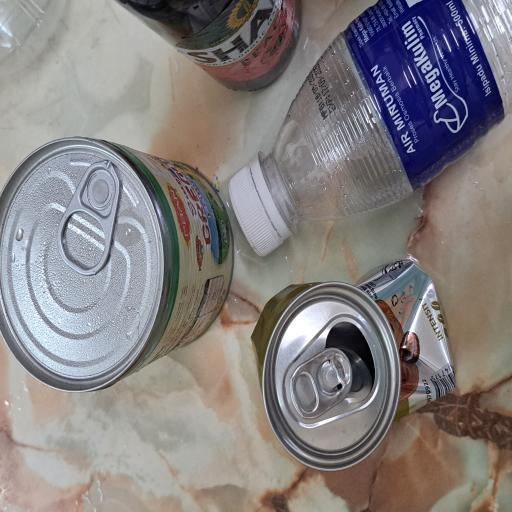can: (89, 0, 281, 315), (28, 334, 193, 512)
plastic bottle: (217, 360, 384, 512)
plastic bottle cap: (192, 306, 266, 382)
pop tab: (177, 77, 264, 160), (67, 386, 123, 469)
